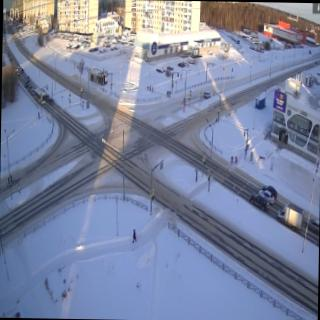large-vehicle: (276, 203, 304, 232), (33, 88, 46, 106)
small-vehicle: (250, 194, 268, 210), (258, 188, 274, 204), (305, 216, 319, 232), (262, 185, 277, 199), (48, 95, 54, 106), (202, 90, 210, 98), (27, 84, 33, 93), (24, 78, 29, 87), (30, 89, 34, 98)
